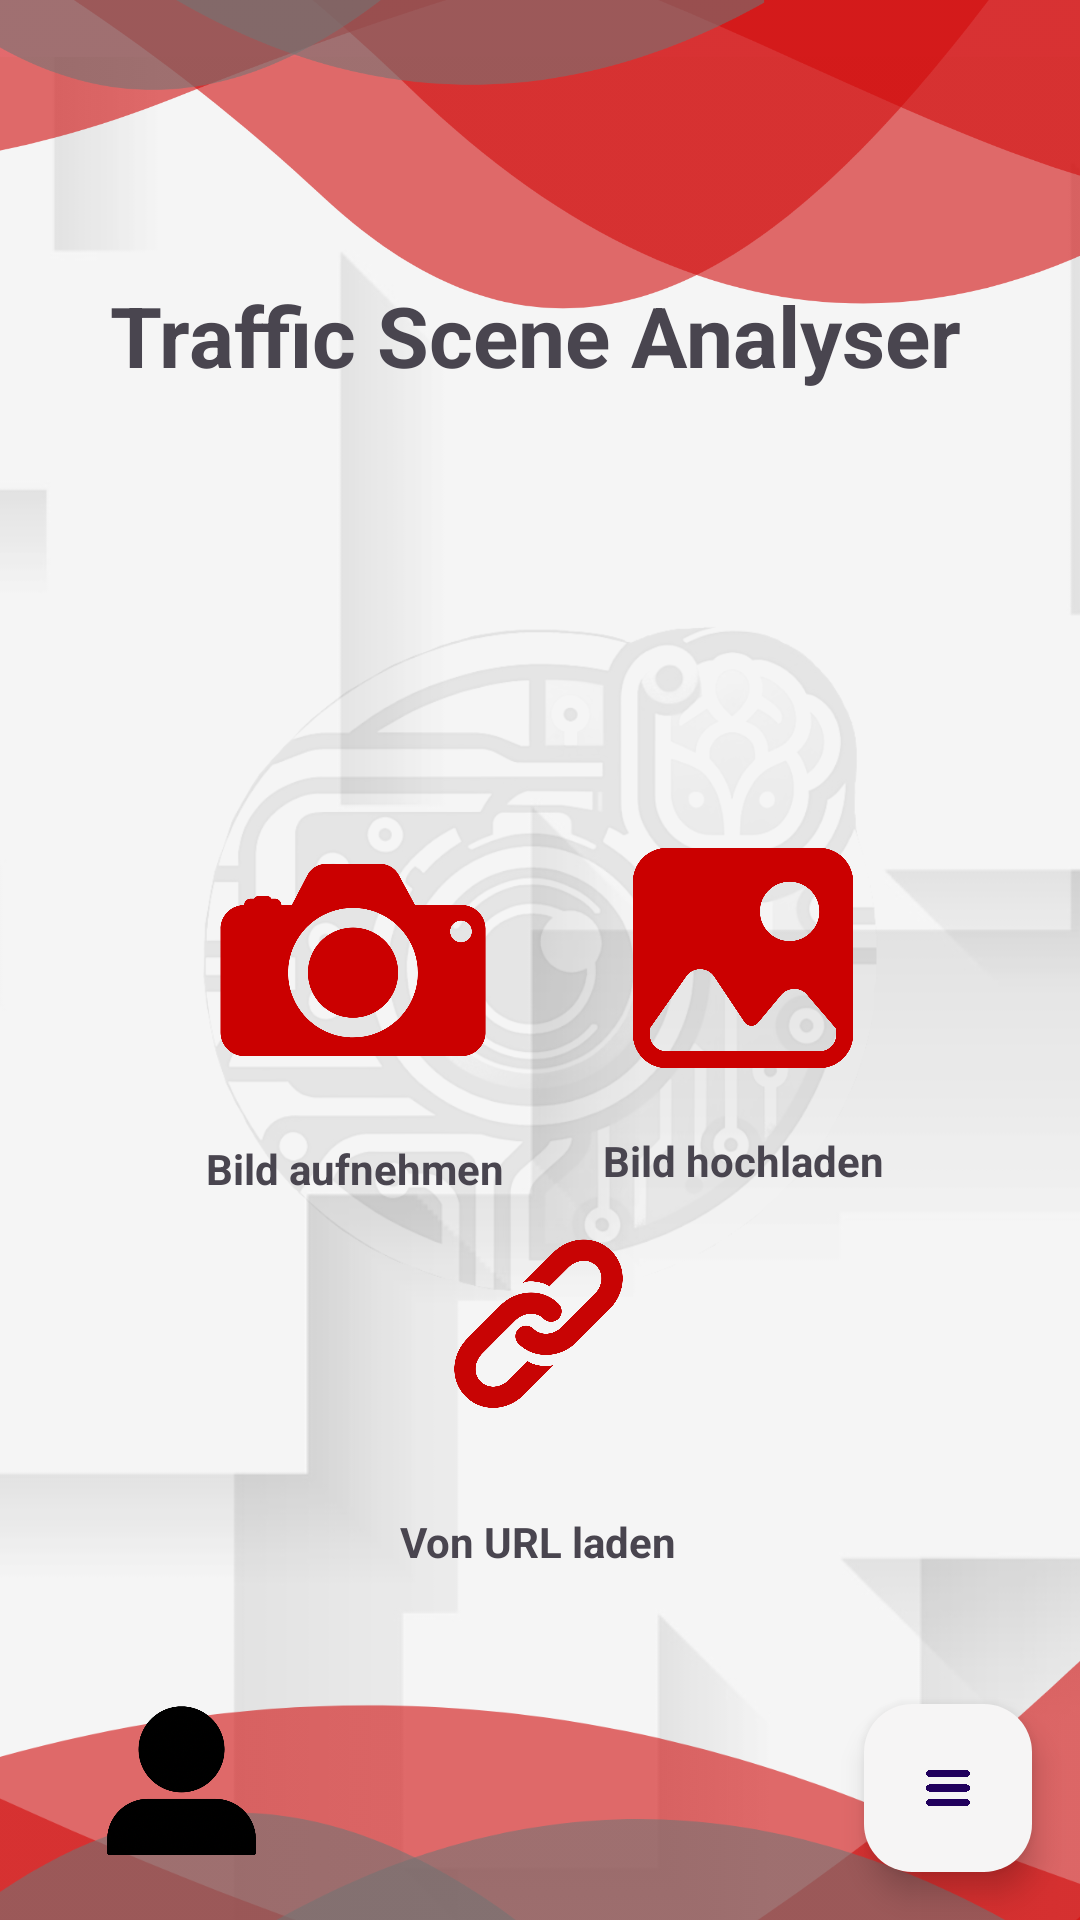

Screen size 1080w x 1920h. Icon name, then its center in pixels as [x,y]:
cameraicon: [376,918]
galerieicon: [724,958]
menuuuu: [948,1788]
